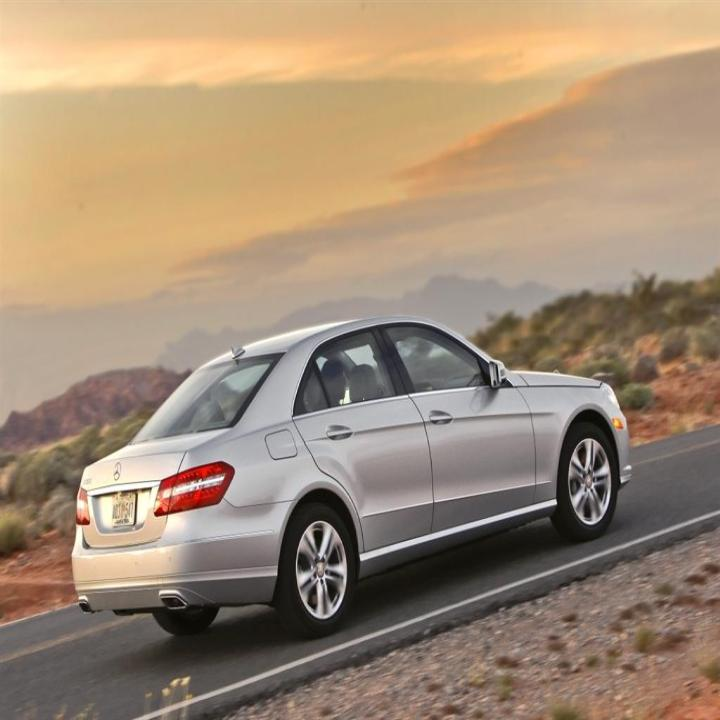car: (70, 314, 632, 639)
plat: (110, 492, 136, 527)
